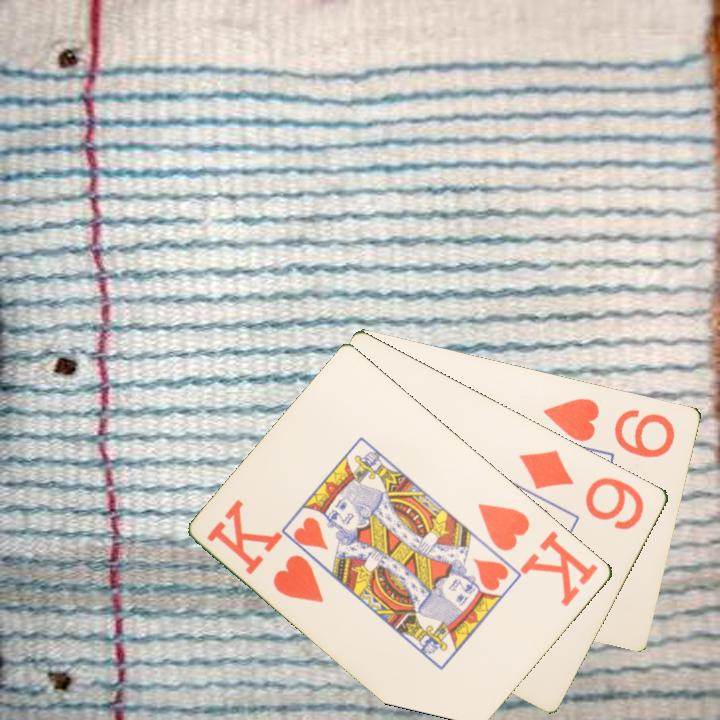6d: (515, 445, 648, 533)
9h: (540, 394, 679, 461)
Kh: (474, 499, 602, 610), (204, 496, 327, 606)
